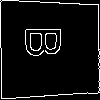B: (25, 24, 71, 59)
